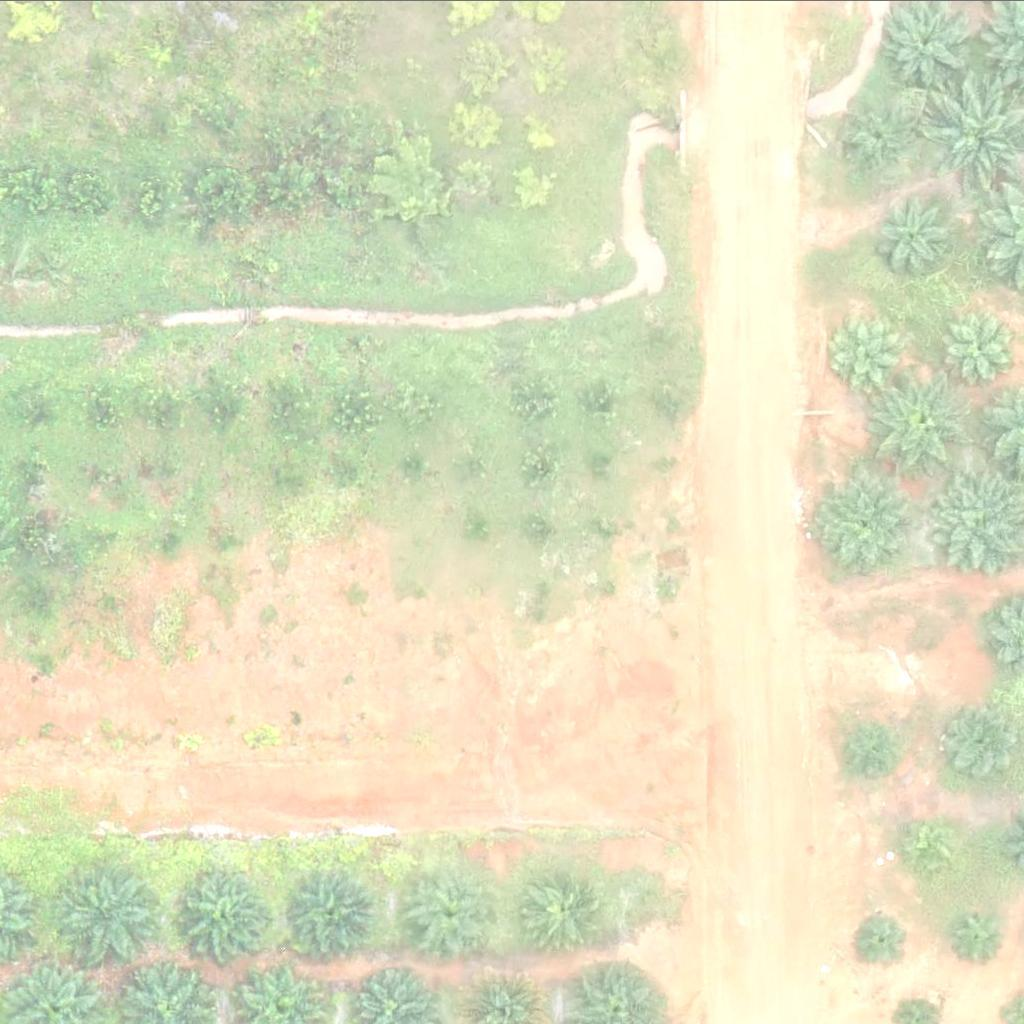Kelapa_Sawit: (816, 471, 917, 571), (867, 373, 968, 473), (55, 865, 155, 965), (521, 861, 609, 949), (872, 189, 961, 276), (825, 301, 913, 388), (187, 868, 275, 955), (284, 867, 372, 954), (410, 868, 498, 955), (942, 308, 1017, 383), (903, 817, 966, 880), (841, 725, 904, 788), (849, 101, 912, 163), (850, 908, 913, 970), (950, 904, 1013, 966)
